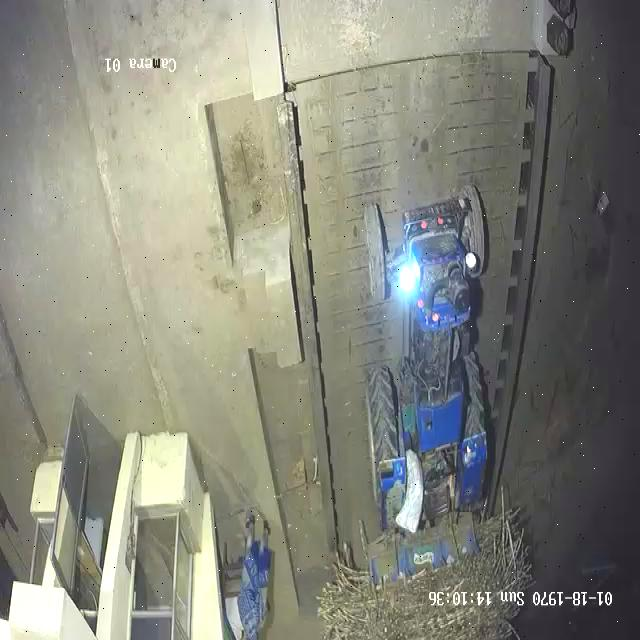Tratores - v5 YOLO V8L 2024-11-13: (353, 198, 498, 514)
